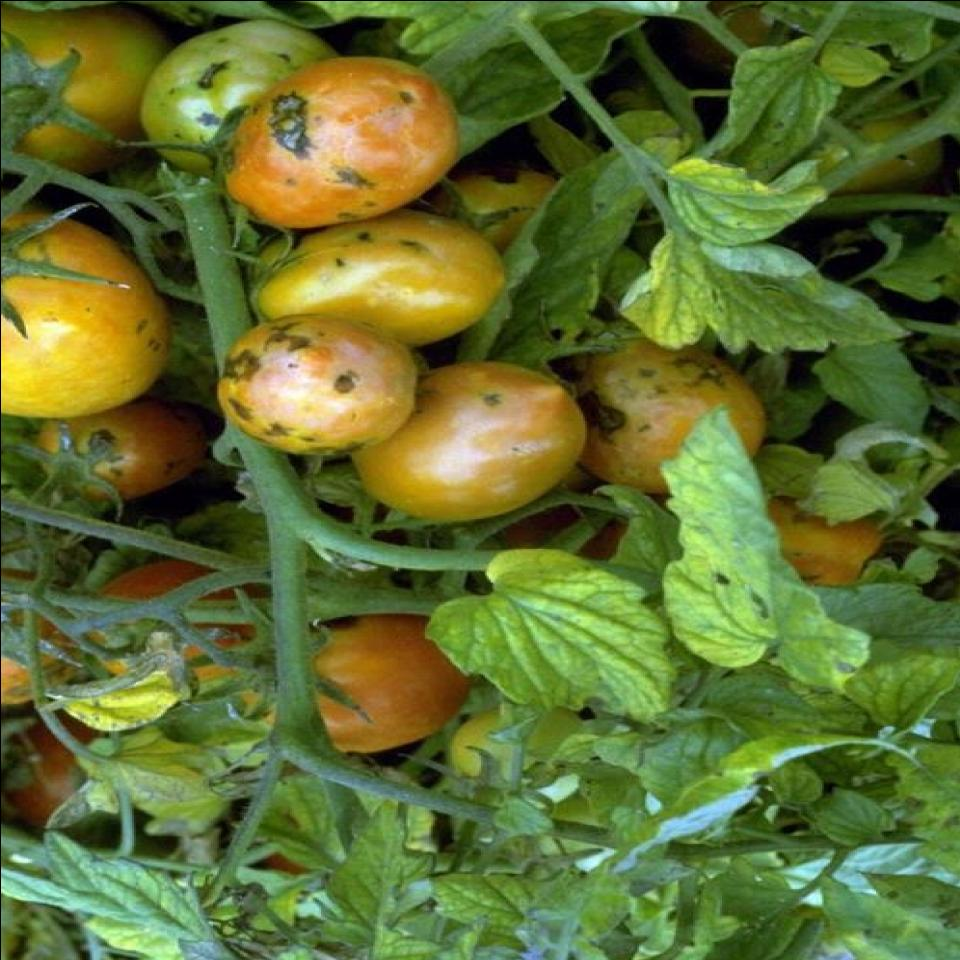Spotted wilt Virus: (208, 55, 466, 236), (352, 357, 582, 519), (0, 202, 162, 430), (252, 209, 499, 354), (556, 332, 760, 498), (139, 15, 332, 177), (212, 308, 414, 456), (28, 398, 210, 516)
